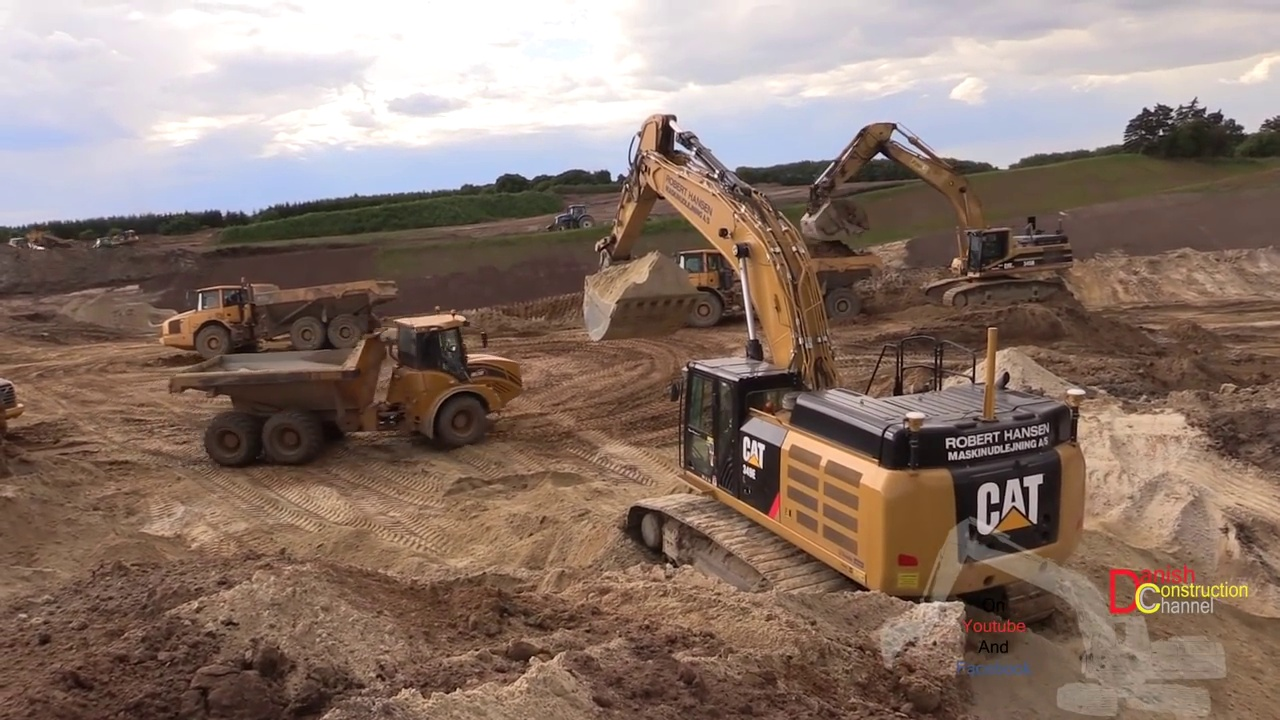dumper: (172, 319, 524, 460), (161, 277, 402, 361)
excavator: (583, 115, 1086, 645), (803, 122, 1077, 311)
